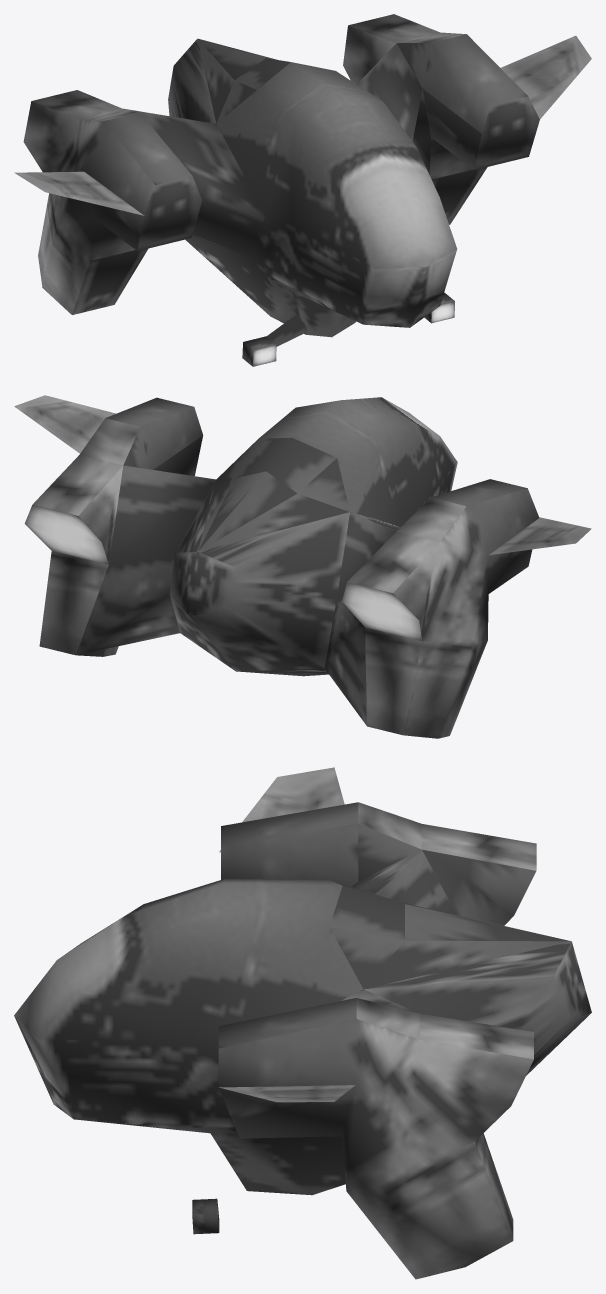
3 renders of one model, top to bottom at view 1: azimuth 30°, elevation 25°; view 2: azimuth 150°, elevation 25°; view 3: azimuth 270°, elevation 25°, orthographic. The views are drawn at different scales.
Parts seen in each view (by area): view 1: root; view 2: root; view 3: root.
Part boxes in pixels (x1,y1,x2,y2): root: [14, 14, 591, 366]; root: [14, 395, 591, 738]; root: [14, 767, 591, 1279].
Bounding box in the file's own units: 2.46 × 1.04 × 1.79.
1 material, 1 textured.
